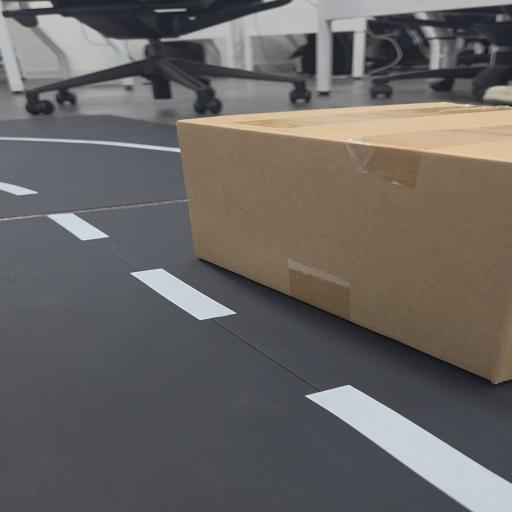Box: (189, 94, 512, 392)
